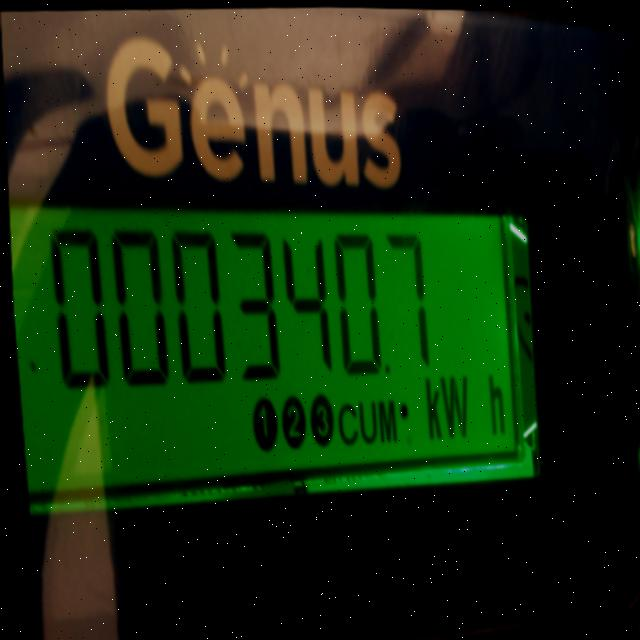.: (374, 349, 391, 384)
0: (39, 220, 111, 398), (160, 213, 230, 395), (101, 220, 174, 393), (328, 222, 385, 376)
3: (222, 216, 285, 390)
4: (271, 224, 337, 374)
7: (380, 216, 440, 372)
